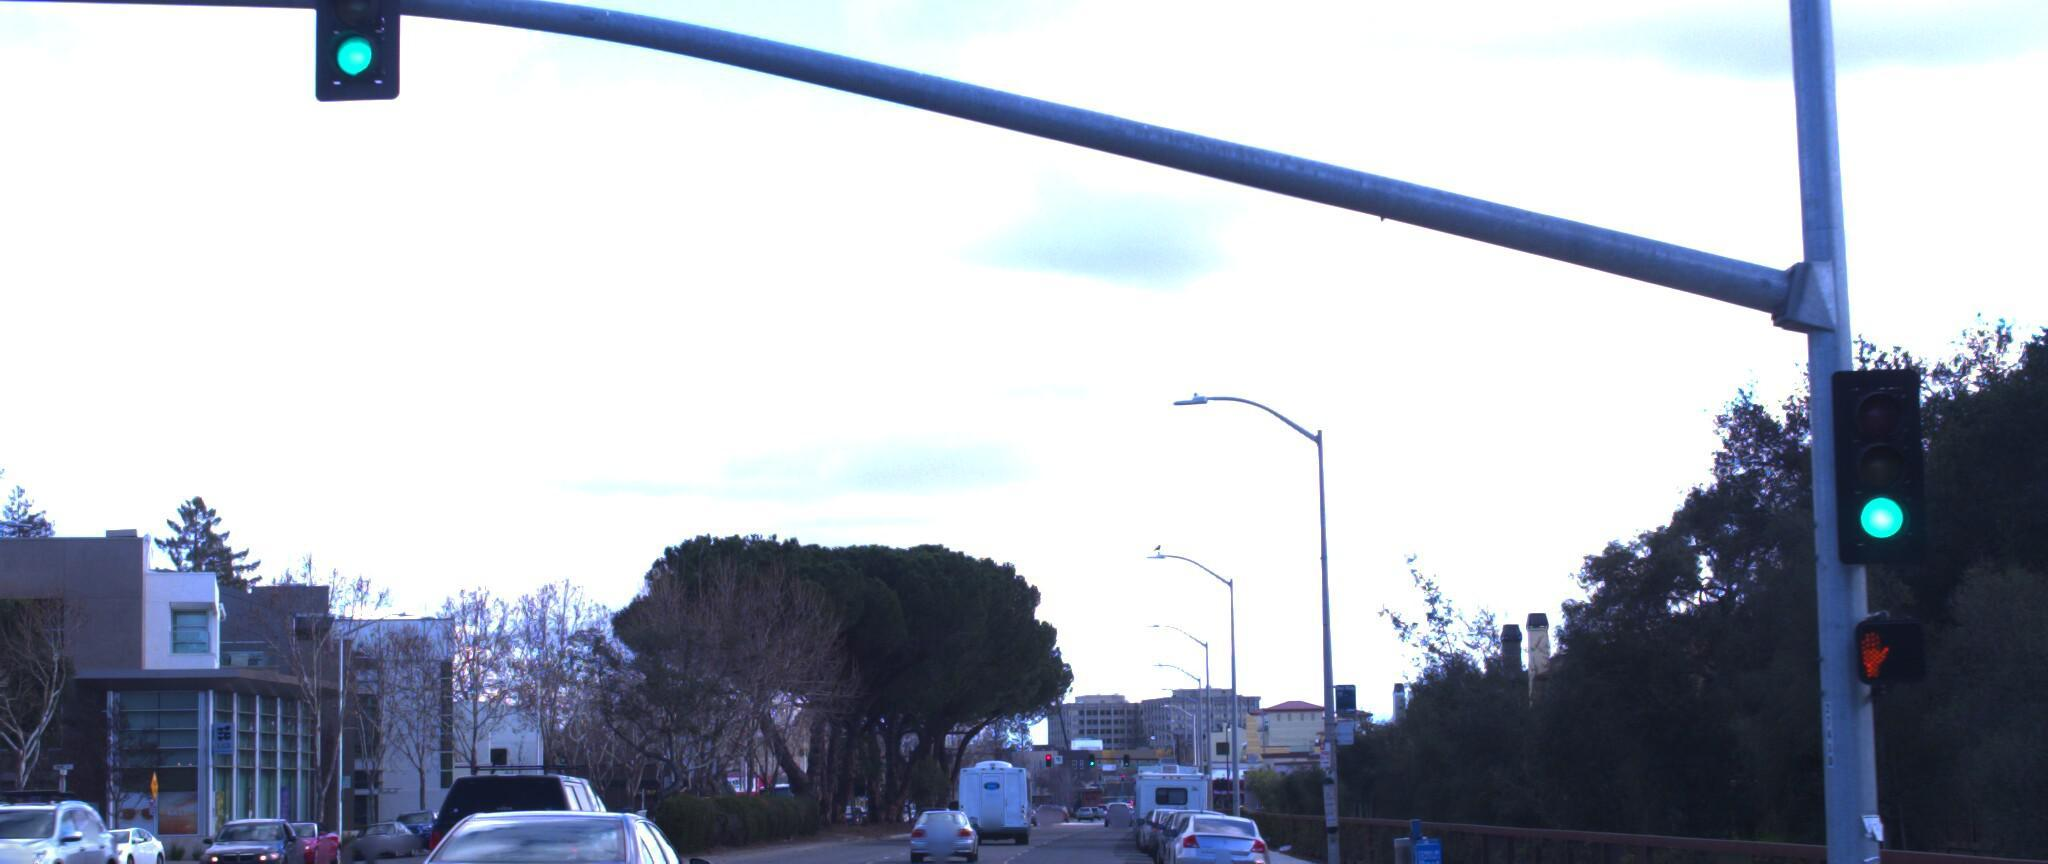car: (367, 780, 724, 864), (435, 747, 641, 864), (168, 777, 327, 864), (0, 779, 138, 864), (1166, 801, 1258, 864), (903, 775, 974, 837), (0, 784, 14, 864)
